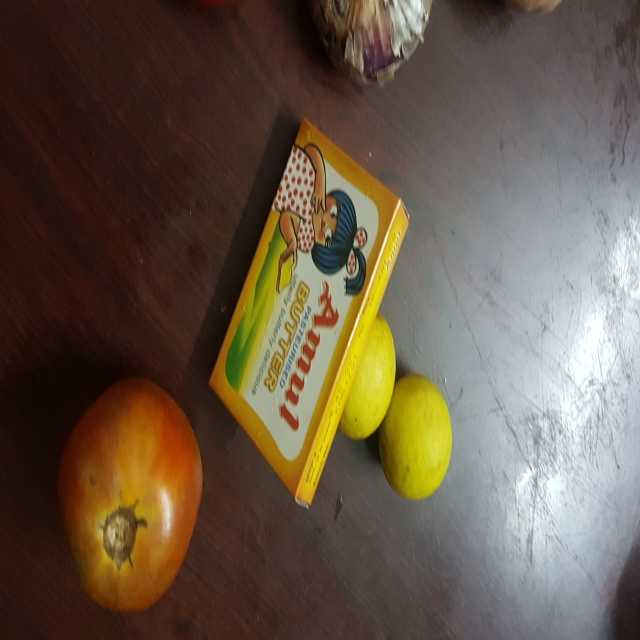butter: (208, 117, 409, 514)
lemon: (388, 374, 457, 509), (333, 316, 400, 442)
onion: (301, 1, 456, 97)
tomato: (59, 375, 213, 614)
